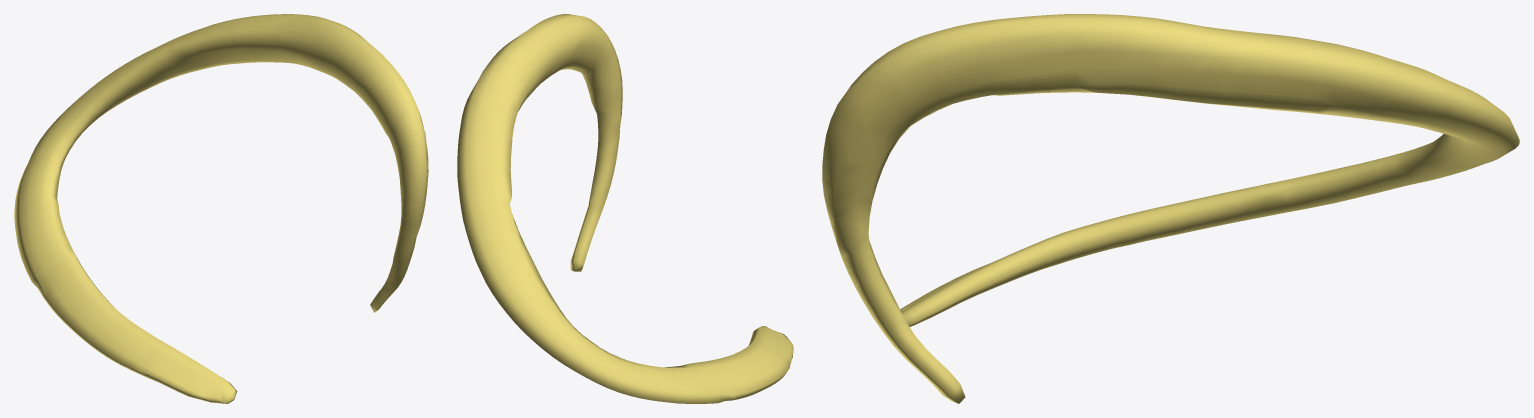
Rendered from fornix-r.glb.
3 renders of one model, left to right at view 1: azimuth 30°, elevation 25°; view 2: azimuth 150°, elevation 25°; view 3: azimuth 270°, elevation 25°, orthographic. The views are drawn at different scales.
Parts seen in each view (by area): view 1: Fornix.r; view 2: Fornix.r; view 3: Fornix.r.
Part boxes in pixels (x1,y1,x2,y2): Fornix.r: (14,14,428,403); Fornix.r: (457,14,793,403); Fornix.r: (822,14,1519,403).
Size of the model in its own units: 0.0305 by 0.031 by 0.0432.
